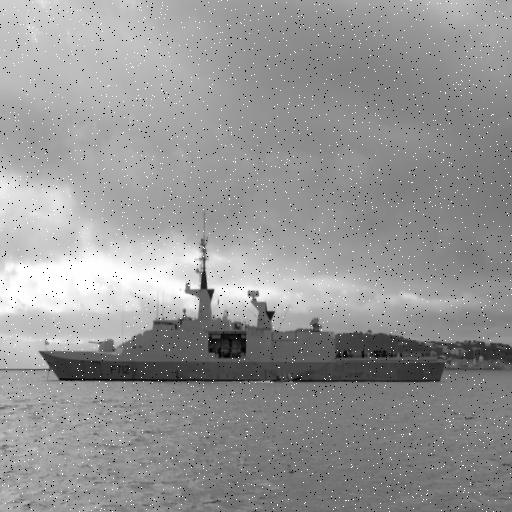Fragata: (35, 206, 451, 390)
